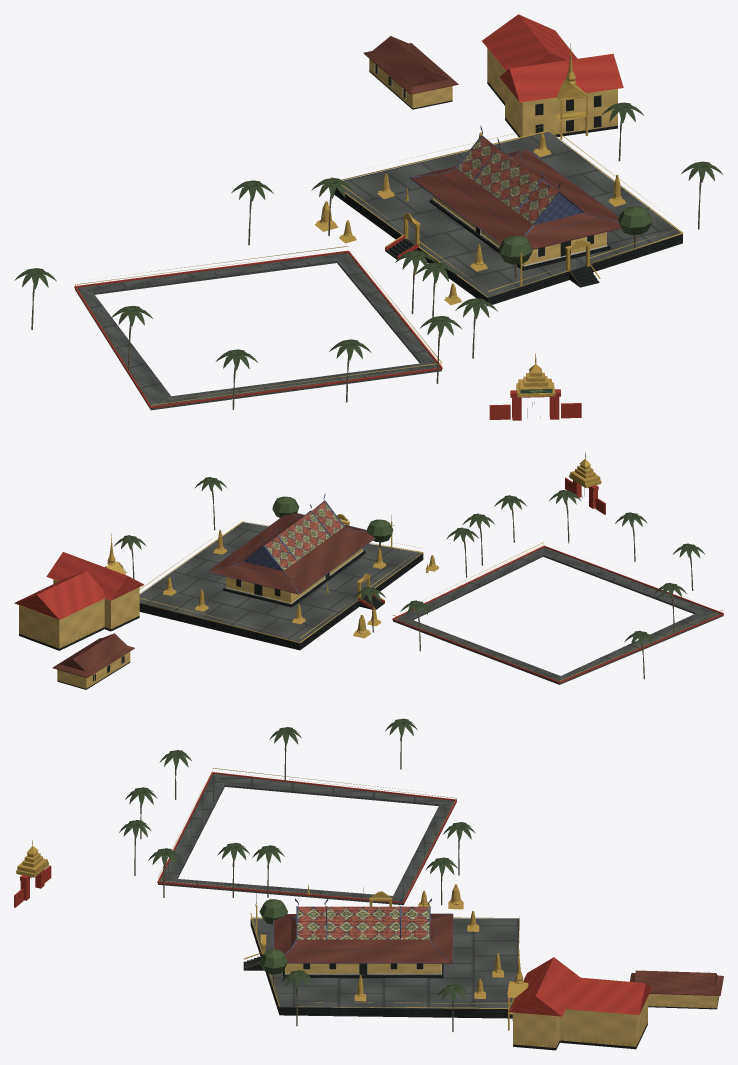
The model's file is xvay-ton-lod.glb.
3 views of the same model, one above another, from view 1: azimuth 30°, elevation 25°; view 2: azimuth 150°, elevation 25°; view 3: azimuth 270°, elevation 25° (orthographic). The views are drawn at different scales.
Parts seen in each view (by area): view 1: xvay-ton-lod; view 2: xvay-ton-lod; view 3: xvay-ton-lod.
Boxes of the visible parts, x1,y1,x2,y2 form: xvay-ton-lod: (14, 14, 723, 420); xvay-ton-lod: (14, 452, 723, 689); xvay-ton-lod: (14, 718, 723, 1050).
Size of the model in its own units: 117 by 15.68 by 123.
1 material, 1 textured.
